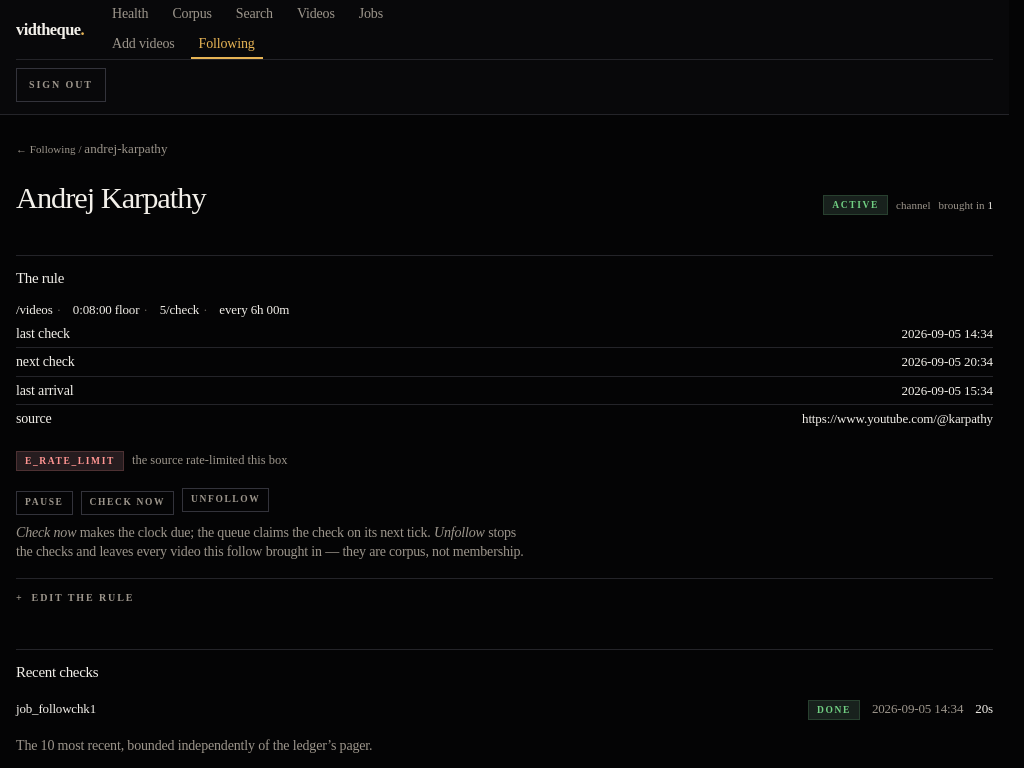
Test case: one follow's page › the five writes › pauses, and shows the state the follow is now in
Expected: the heading "Andrej Karpathy" is shown, [16, 183, 206, 214]
Click the button "Pause" at (44, 503), box [16, 491, 72, 515]
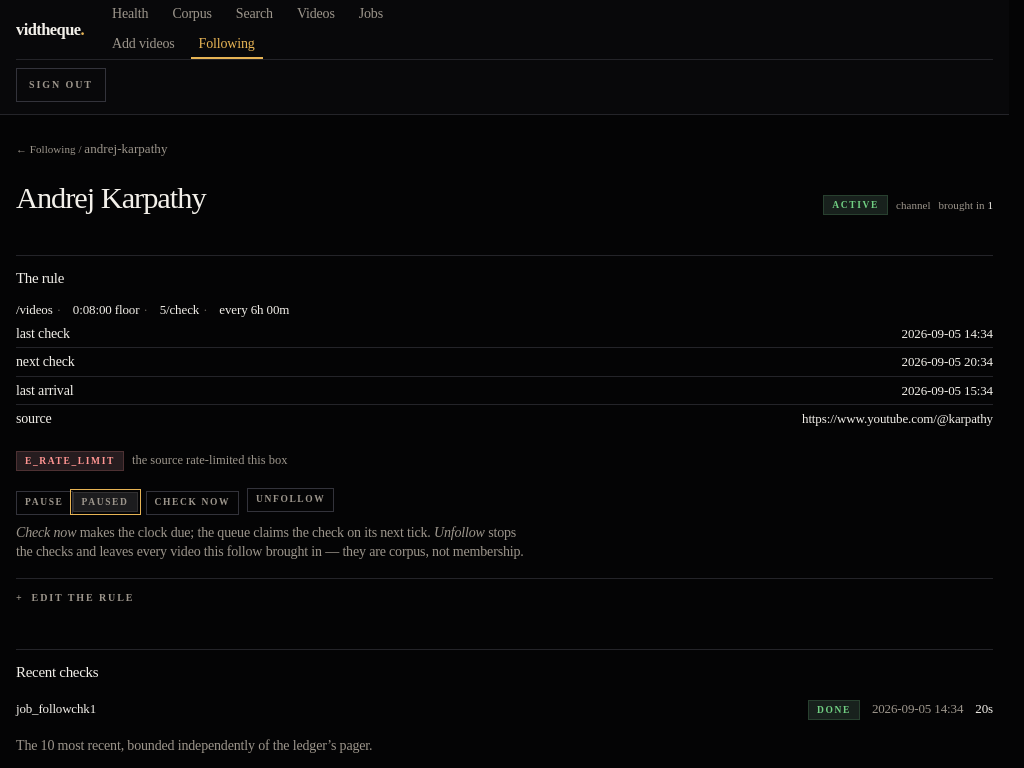
Result: the message "paused" is shown at [72, 492, 138, 512]
